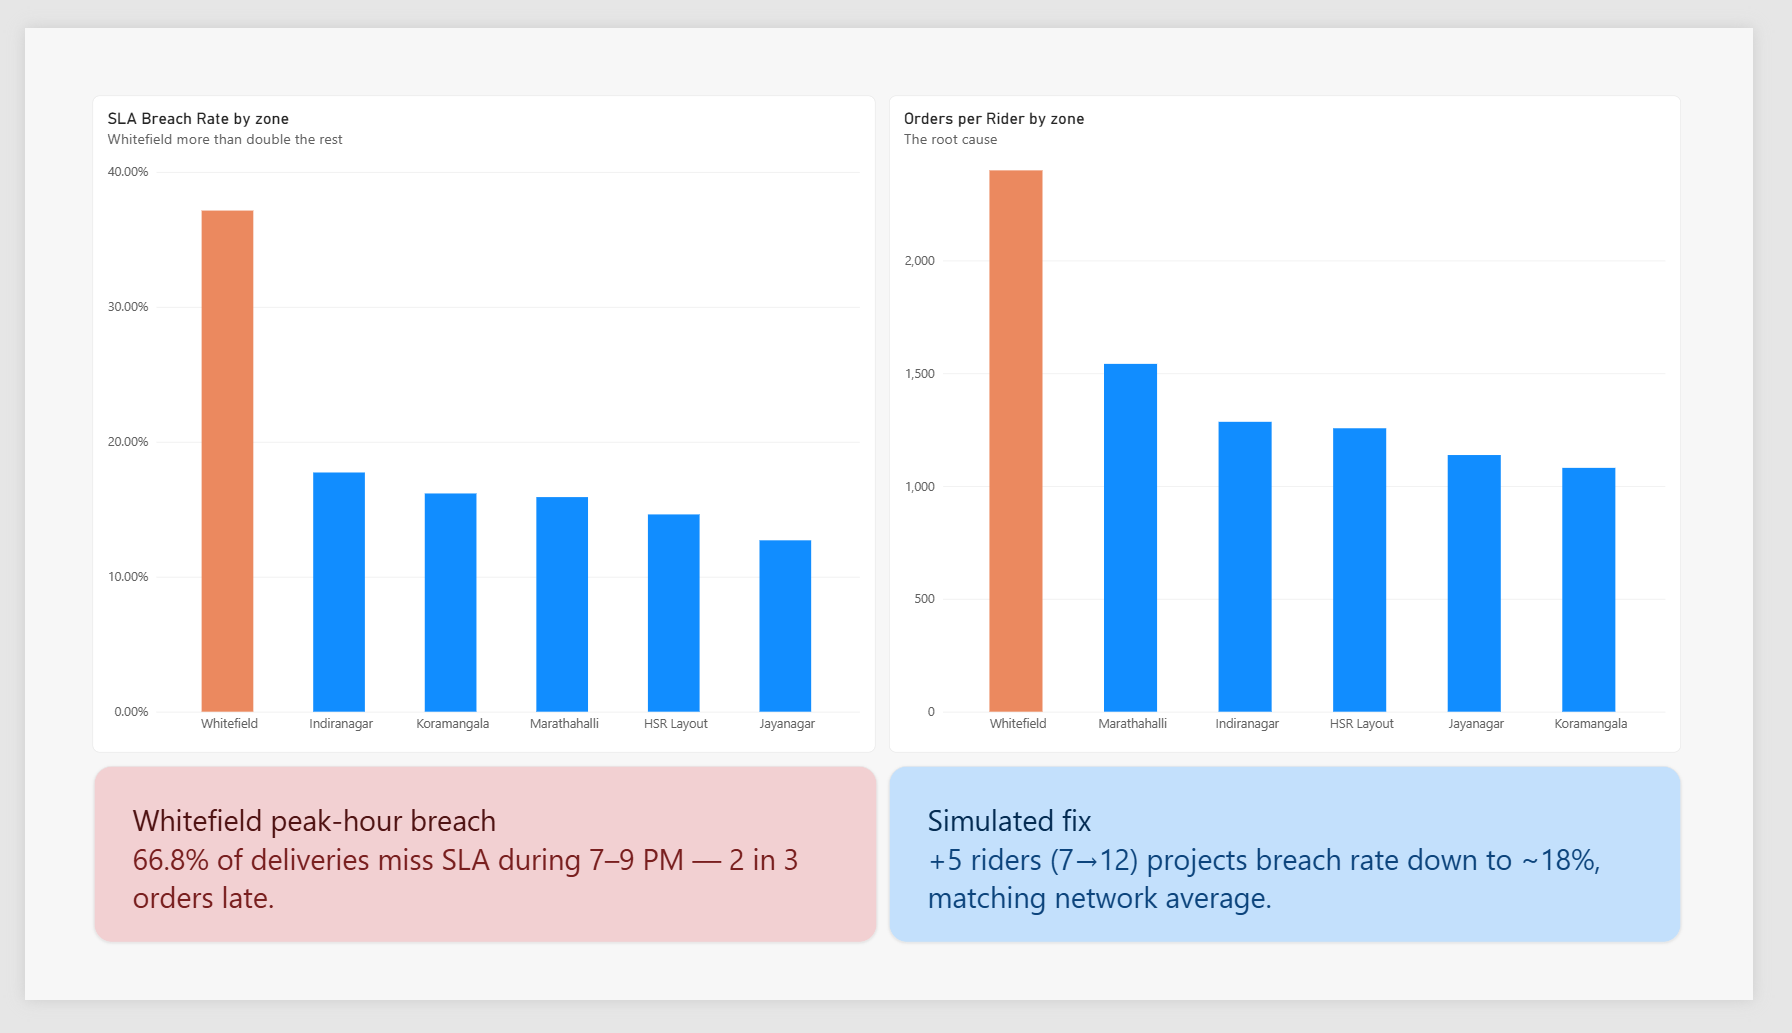

What the dashboard file says about the page in this screenshot:
{"tool":"powerbi","page":{"name":"Delivery operations","canvas":[1920,1080],"ordinal":3},"visuals":[{"type":"clusteredColumnChart","fields":{"Category":["orders.zone"],"Y":["delivery_events.SLA Breach Rate"]},"box":[75.7,75.7,870,730],"z":0},{"type":"clusteredColumnChart","fields":{"Category":["orders.zone"],"Y":["delivery_events.Orders per Rider"]},"box":[960,75.7,880,730],"z":1000},{"type":"textbox","box":[76,820,870,196],"z":1001},{"type":"textbox","box":[960,820,880,196],"z":1002}]}

Visuals, with their boxes in screenshot pixels (x1, y1, x2, y2), scaled from the page's 1920x1080 canvas onto the 1792x1033 screenshot:
clusteredColumnChart - orders.zone x delivery_events.SLA Breach Rate: rect(71, 72, 883, 771)
clusteredColumnChart - orders.zone x delivery_events.Orders per Rider: rect(896, 72, 1717, 771)
textbox: rect(71, 784, 883, 972)
textbox: rect(896, 784, 1717, 972)
